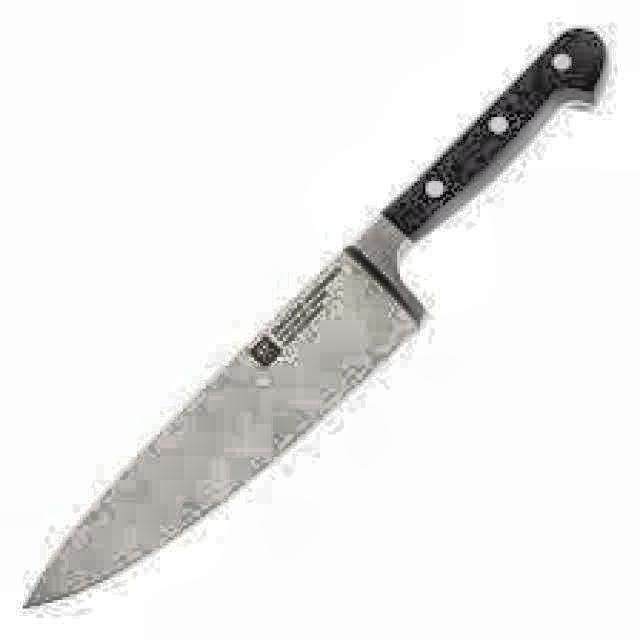knife: (11, 18, 615, 613)
